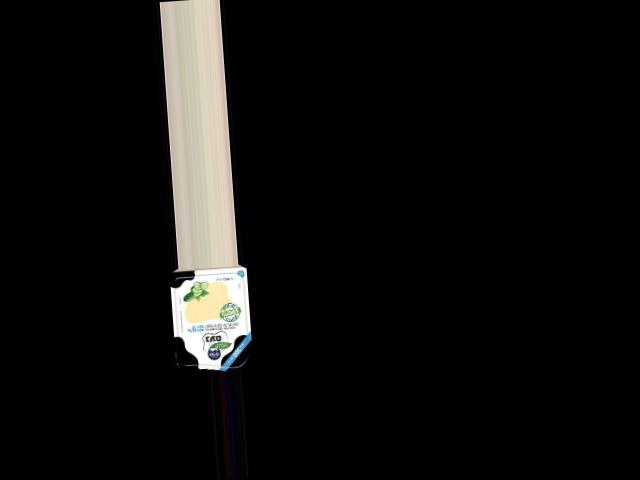cheese: (165, 262, 258, 373)
